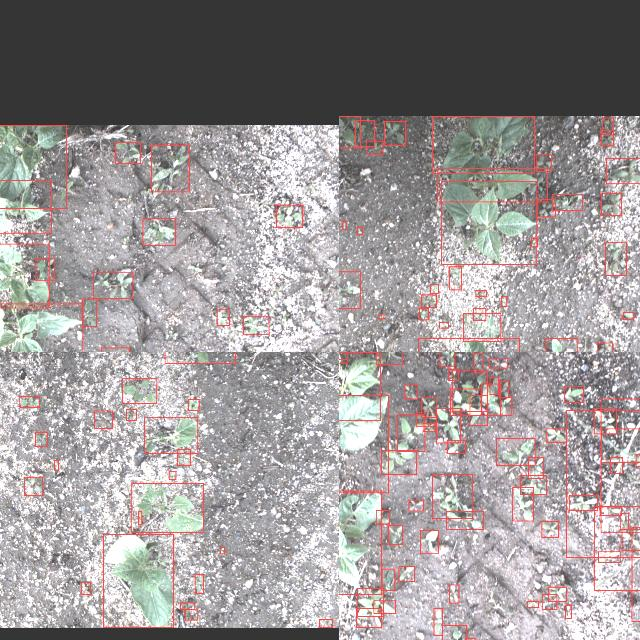crop: (442, 182, 536, 264), (102, 534, 174, 628), (432, 116, 534, 172), (0, 124, 65, 207), (339, 395, 387, 493), (339, 491, 381, 595), (0, 304, 82, 352), (437, 168, 547, 202), (131, 483, 203, 533), (0, 244, 48, 308), (339, 352, 379, 420), (0, 179, 50, 232), (144, 417, 196, 453)
weed: (565, 410, 640, 557), (600, 399, 640, 533), (593, 505, 640, 590), (150, 144, 188, 192), (432, 474, 472, 518), (452, 371, 486, 412), (601, 428, 640, 462), (462, 313, 500, 341), (496, 438, 534, 466), (396, 414, 424, 452), (92, 272, 132, 298), (142, 218, 176, 246), (449, 388, 481, 416), (122, 378, 156, 404), (380, 450, 416, 474), (606, 158, 640, 183), (436, 408, 460, 442), (163, 352, 234, 363), (357, 588, 383, 618), (339, 271, 360, 308), (604, 242, 626, 276), (512, 487, 532, 521), (446, 511, 482, 529), (339, 116, 359, 148), (480, 383, 500, 415), (276, 205, 302, 228), (593, 408, 615, 434), (469, 395, 487, 425), (114, 142, 140, 162), (384, 120, 404, 146), (354, 120, 374, 146), (552, 194, 582, 210), (356, 608, 380, 628), (519, 476, 545, 494), (545, 338, 577, 352), (601, 193, 621, 215), (244, 316, 268, 334), (420, 530, 438, 554), (568, 496, 598, 510), (621, 529, 640, 550), (35, 258, 53, 280), (82, 299, 96, 327), (23, 476, 42, 496), (442, 625, 466, 640), (94, 411, 112, 429), (563, 386, 583, 402), (420, 397, 436, 417), (375, 352, 401, 364), (537, 200, 555, 217), (449, 266, 461, 290), (548, 586, 566, 602), (546, 428, 566, 442), (528, 458, 542, 478), (415, 412, 435, 426), (374, 600, 394, 614), (382, 569, 394, 591), (542, 521, 558, 537), (398, 566, 414, 582), (536, 154, 550, 172), (433, 608, 442, 636), (446, 440, 464, 454), (388, 526, 402, 544), (366, 140, 382, 154), (420, 294, 436, 308), (542, 594, 556, 610), (19, 397, 39, 408), (597, 552, 619, 562), (599, 506, 621, 516), (439, 352, 454, 366), (217, 310, 230, 326), (177, 449, 190, 465), (375, 510, 389, 524), (601, 129, 613, 145), (610, 457, 622, 473), (404, 384, 416, 400), (448, 585, 458, 603), (473, 352, 482, 372), (500, 397, 510, 415), (489, 358, 507, 368), (35, 432, 47, 446), (489, 376, 498, 394), (602, 117, 612, 133), (194, 574, 202, 594), (498, 381, 508, 397), (596, 342, 611, 352), (473, 308, 485, 320), (408, 500, 422, 510), (185, 610, 198, 620), (620, 513, 628, 529), (418, 308, 428, 320), (80, 583, 90, 595), (422, 422, 434, 432), (318, 620, 332, 628), (179, 602, 193, 610), (448, 368, 458, 379), (188, 400, 198, 410), (126, 410, 136, 420), (622, 312, 634, 320), (526, 600, 538, 608), (339, 352, 347, 363), (430, 284, 438, 294), (565, 606, 571, 618), (168, 471, 176, 479), (475, 290, 485, 296), (500, 296, 506, 306), (438, 322, 448, 328), (356, 227, 362, 235), (531, 238, 537, 246), (342, 220, 346, 230), (54, 460, 58, 470), (138, 511, 140, 525), (378, 315, 384, 319), (220, 548, 224, 554)
